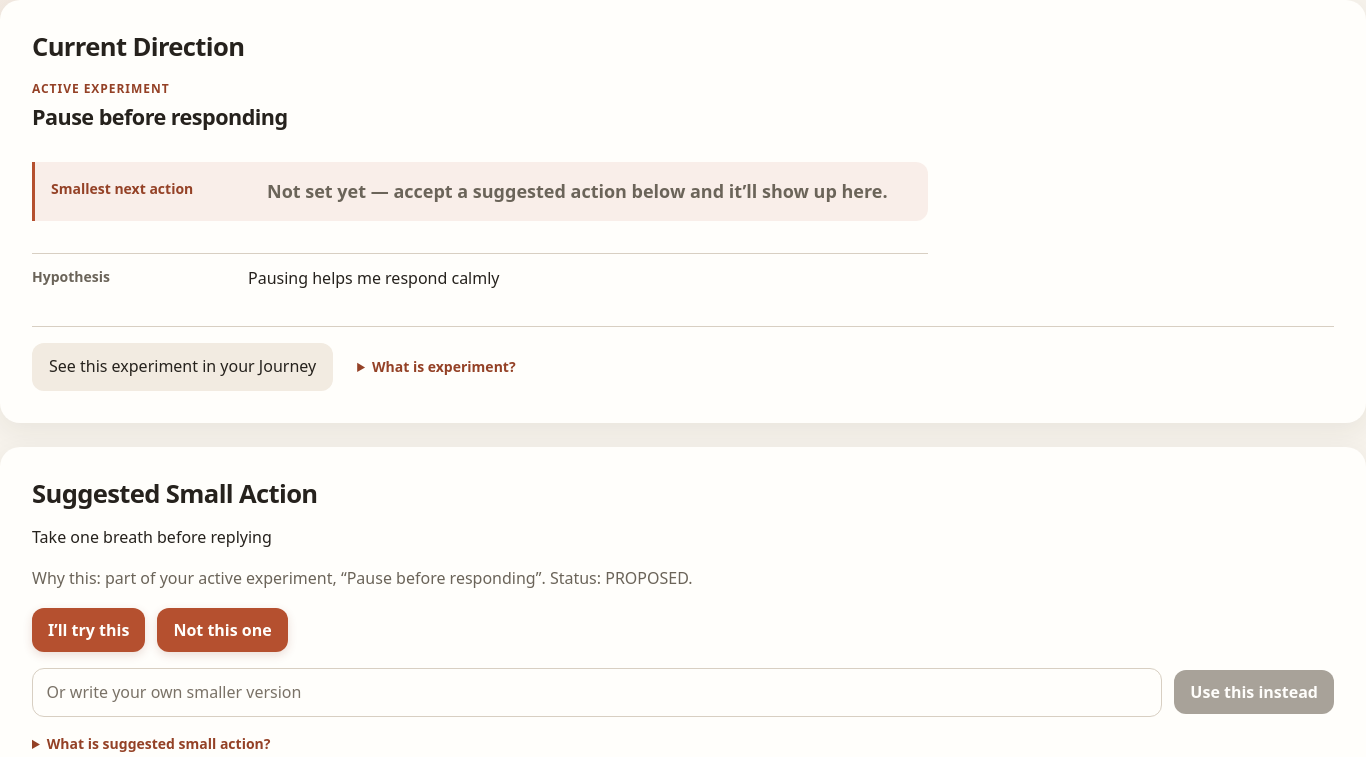
TodayPage › immediately reflects the Not this one suggestion choice
Click the button "Not this one" at (223, 630), box [157,608,288,652]
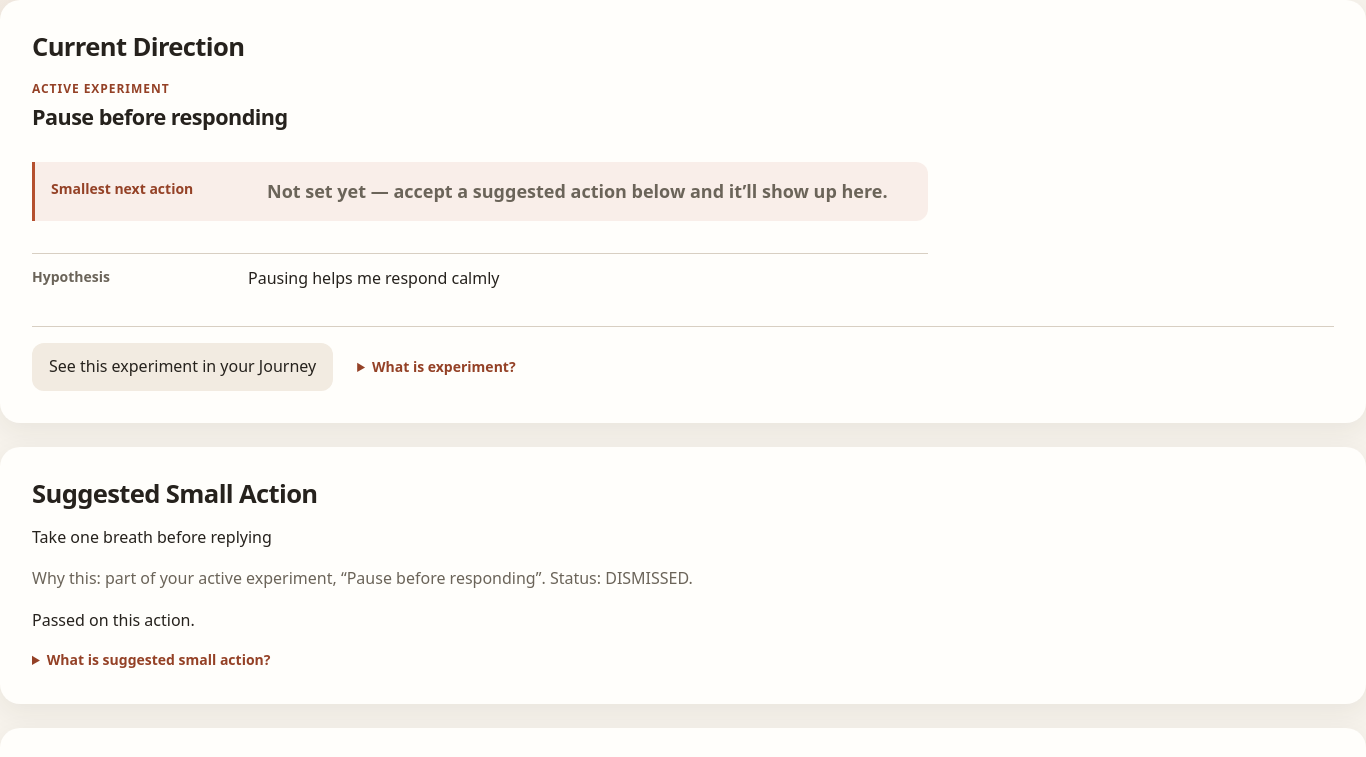
expect the text "Passed on this action." is shown: met, box [32,609,195,631]
expect the button "Not this one" is gone: met
